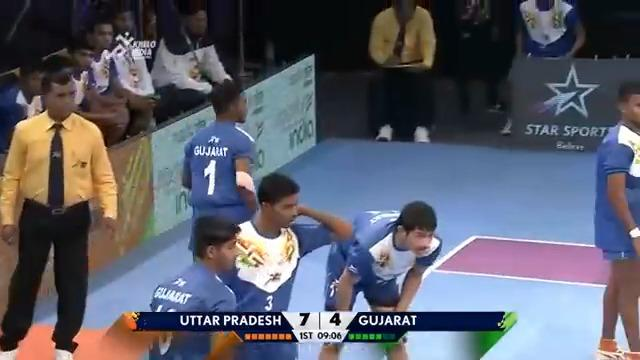Player: (313, 181, 469, 331), (592, 80, 639, 358), (230, 158, 300, 303), (202, 88, 266, 220), (170, 233, 231, 331)
referee: (1, 53, 119, 357), (367, 0, 437, 142)
